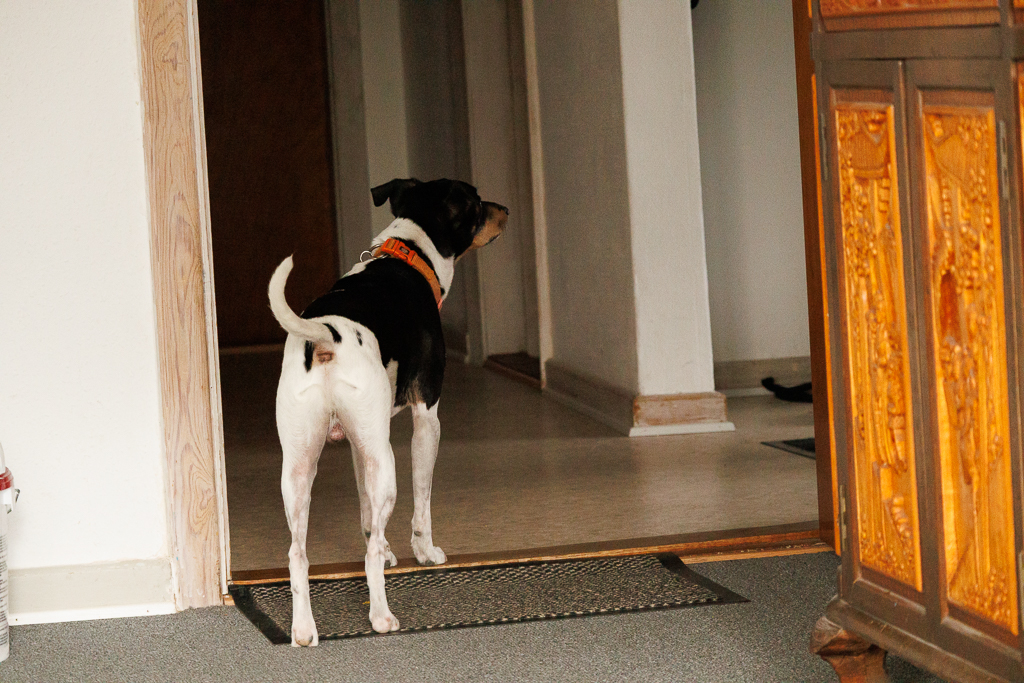Dog: (253, 161, 519, 657)
